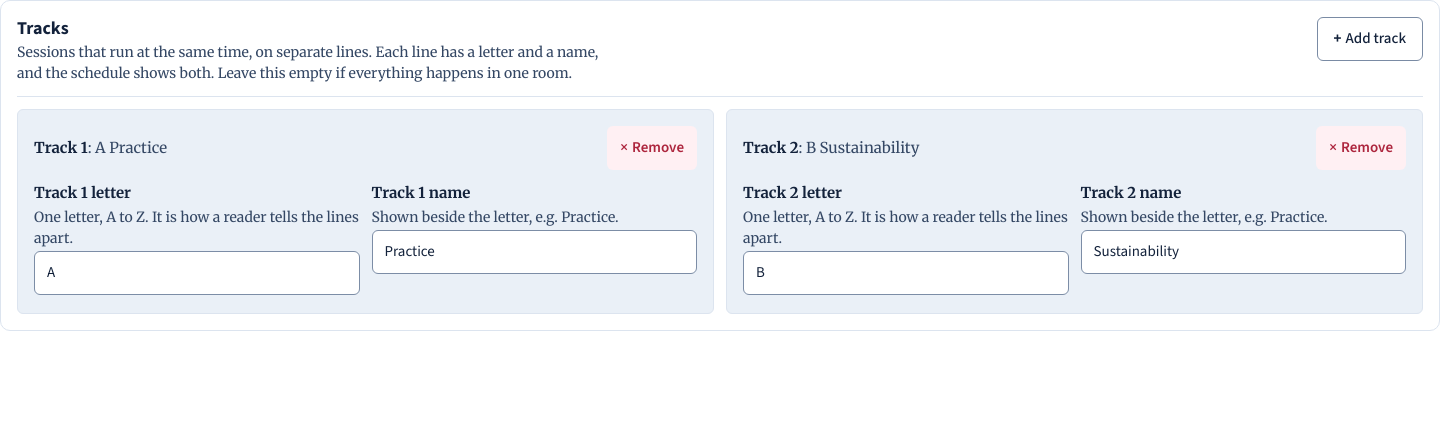
Test case: EventTracksEditor › adds a track with a free letter from one labelled control and moves focus to its name
Click the button "+ Add track" at point(1370, 39), box [1317, 17, 1423, 61]
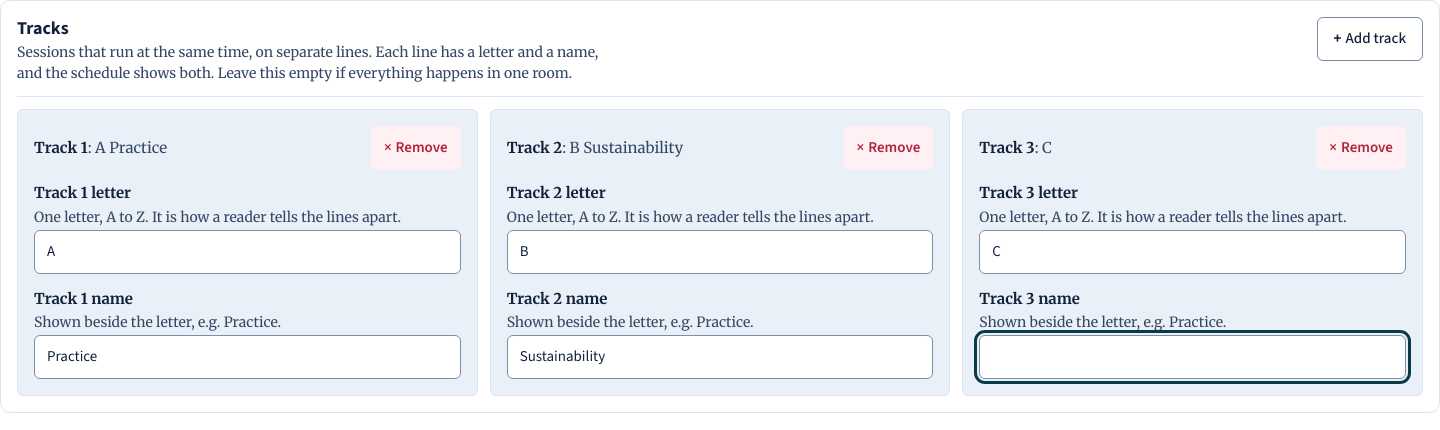
Now the field labelled "Track 3 letter" holds "C", box [979, 230, 1406, 274]
